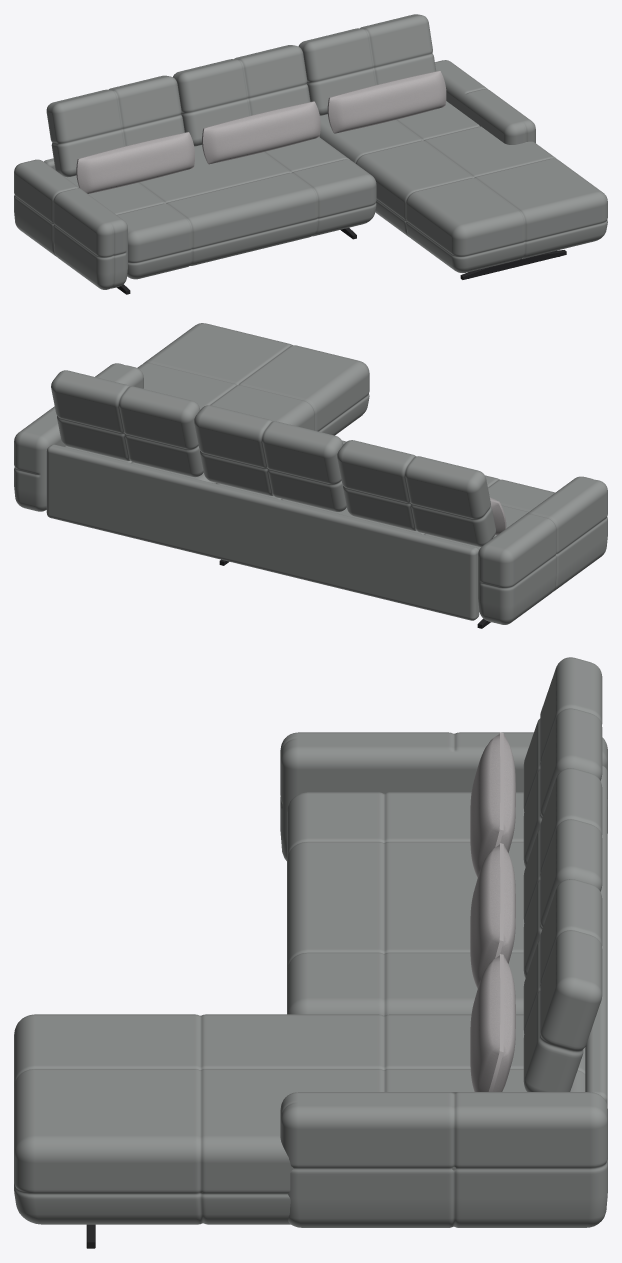
File: own171.glb
The picture shows the model from 3 angles, top to bottom: view 1: azimuth 30°, elevation 25°; view 2: azimuth 150°, elevation 25°; view 3: azimuth 270°, elevation 25°; orthographic projection. The views are drawn at different scales.
Size of the model in its own units: 2.85 by 0.9004 by 1.85.
3 materials, 1 textured.
